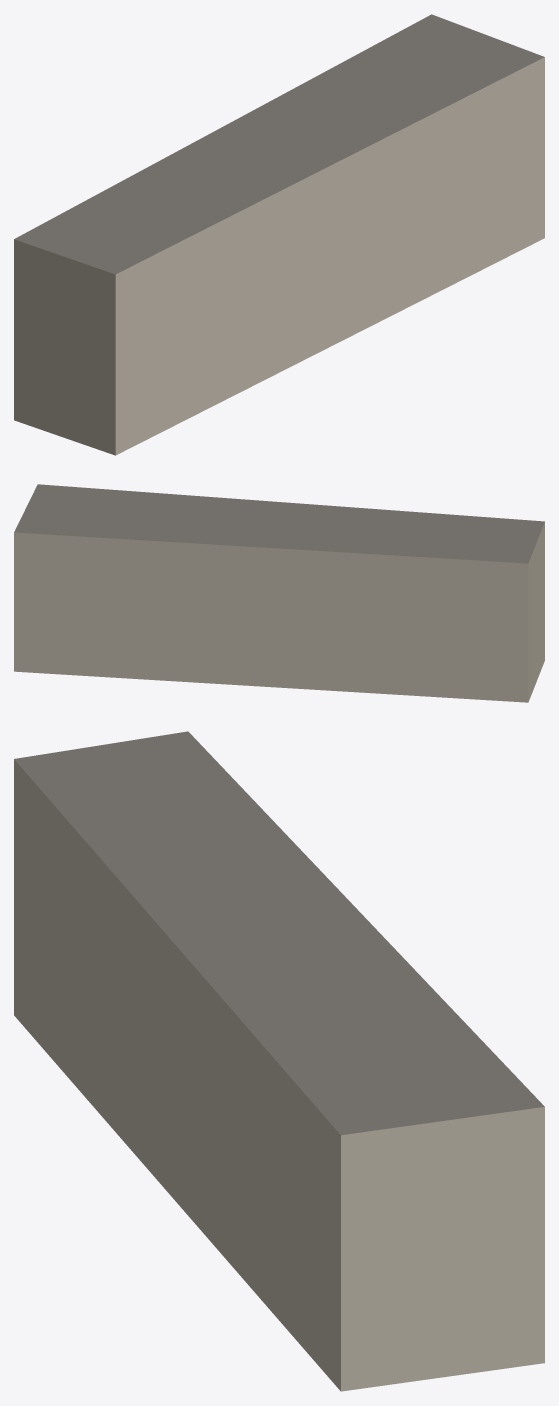
3 renders of one model, top to bottom at view 1: azimuth 30°, elevation 25°; view 2: azimuth 150°, elevation 25°; view 3: azimuth 270°, elevation 25°, orthographic. The views are drawn at different scales.
Visible parts, largest first — view 1: HP-w505655137; view 2: HP-w505655137; view 3: HP-w505655137.
Boxes of the visible parts, x1,y1,x2,y2 form: HP-w505655137: [14, 14, 544, 455]; HP-w505655137: [14, 484, 544, 702]; HP-w505655137: [14, 731, 544, 1391].
Bounding box in the file's own units: 40.55 × 12 × 22.53.
